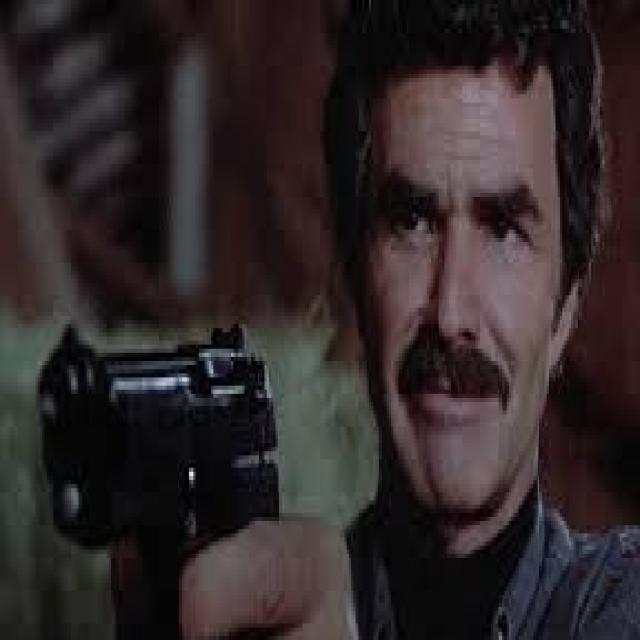gun: (29, 287, 291, 640)
